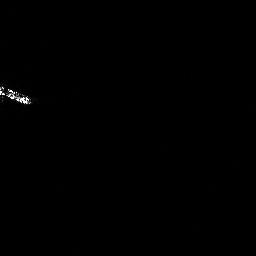ship: (1, 83, 35, 107)
